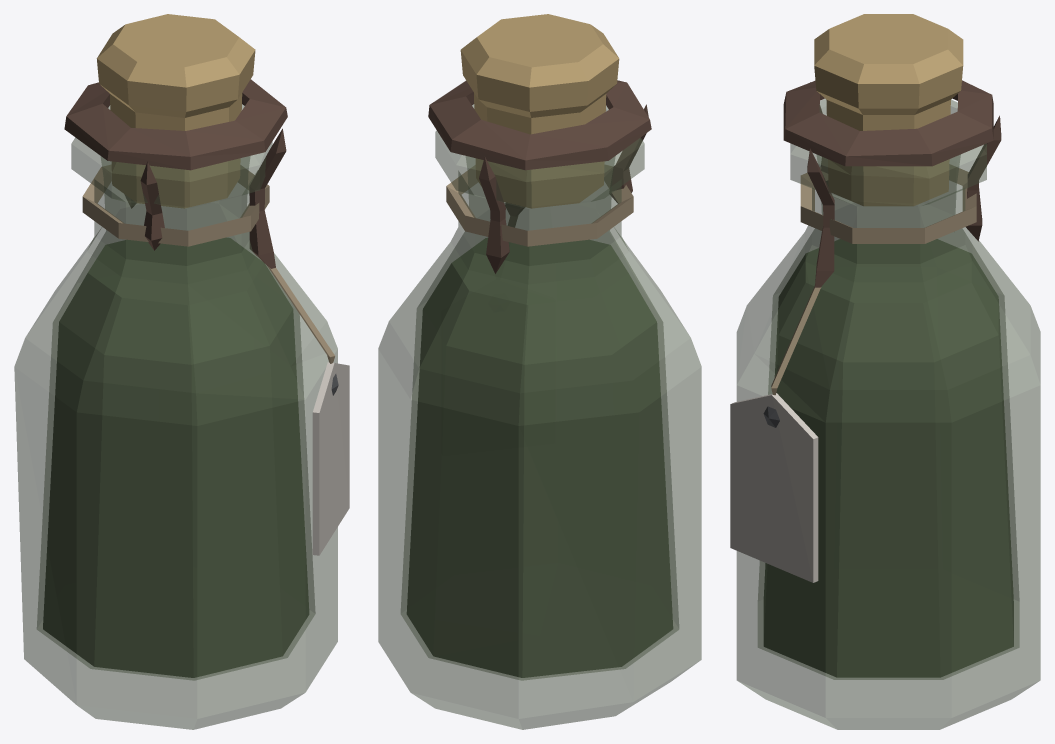
Rendered from potion.glb.
The picture shows the model from 3 angles, left to right: view 1: azimuth 30°, elevation 25°; view 2: azimuth 150°, elevation 25°; view 3: azimuth 270°, elevation 25°; orthographic projection.
Visible parts, largest first — view 1: glass-vessel, liquid, cork-plug, seal, tag-card; view 2: glass-vessel, liquid, cork-plug, seal; view 3: glass-vessel, liquid, cork-plug, seal, tag-card.
Boxes of the visible parts, x1,y1,x2,y2 form: glass-vessel: (14,104,337,729); liquid: (43,237,309,677); cork-plug: (96,14,255,208); seal: (64,79,287,268); tag-card: (267,266,349,555); glass-vessel: (378,104,701,729); liquid: (406,237,673,677); cork-plug: (460,14,619,208); seal: (428,80,651,273); glass-vessel: (736,99,1040,729); liquid: (763,239,1013,677); cork-plug: (814,14,963,206); seal: (783,80,1001,287); tag-card: (730,285,821,582).
Size of the model in its own units: 0.0793 by 0.18 by 0.0793.
